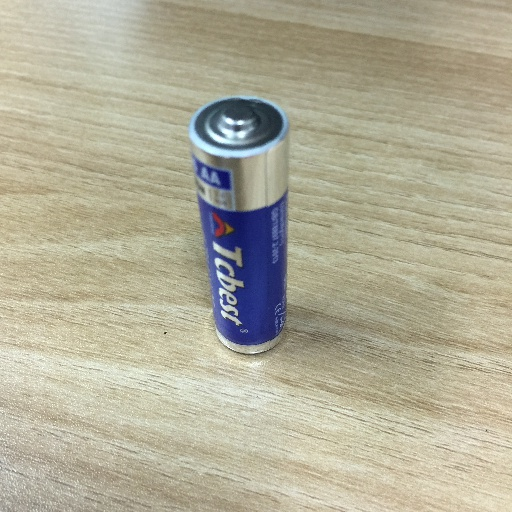Battery_0: (178, 85, 312, 362)
